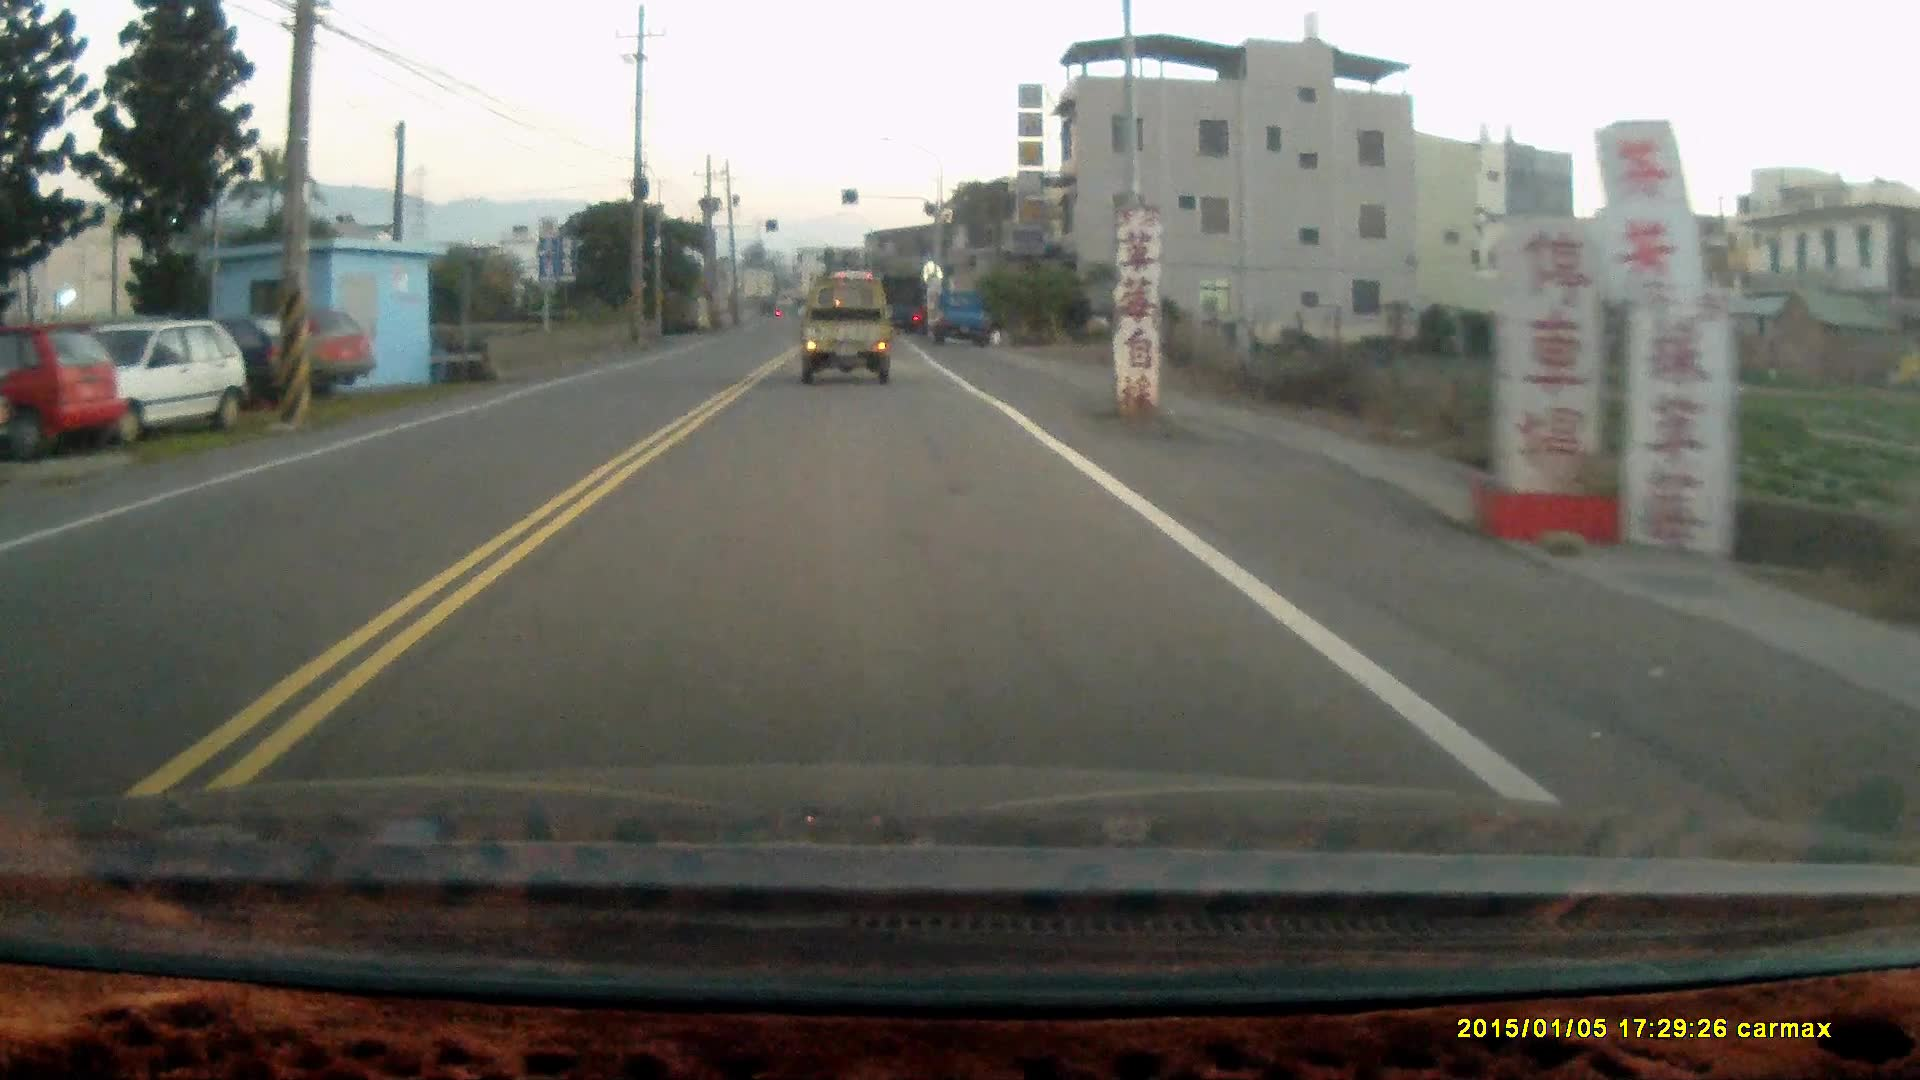vehicle: (29, 318, 237, 436), (1, 318, 150, 446), (200, 301, 382, 392), (799, 270, 898, 389), (930, 287, 1000, 345)
